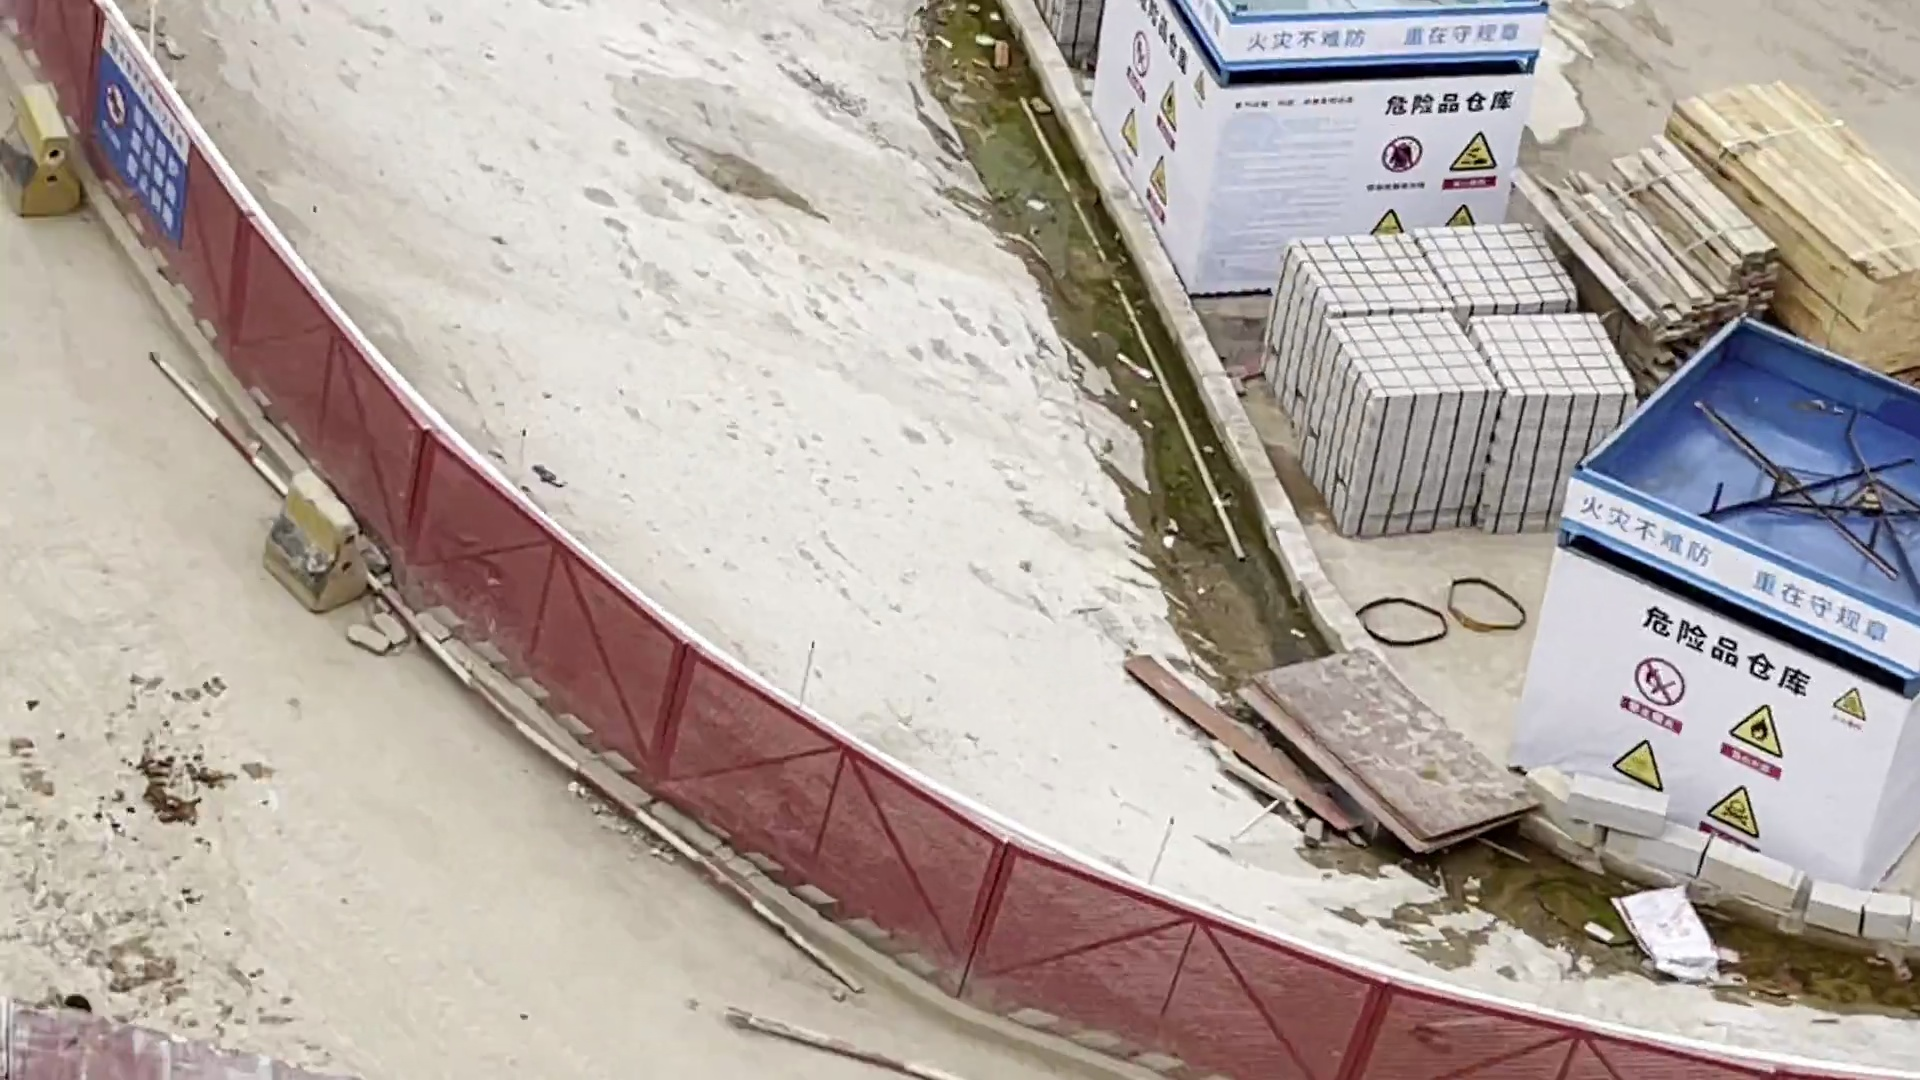board: (1225, 620, 1552, 874)
brick: (1233, 222, 1646, 556), (1502, 754, 1920, 949), (1021, 3, 1113, 74)
fence: (400, 411, 1013, 1055), (3, 3, 422, 626), (998, 843, 1374, 1080), (1371, 973, 1858, 1080)
slogan: (1516, 465, 1907, 922), (1076, 5, 1557, 305), (69, 8, 214, 251)
wood: (1556, 69, 1920, 375)
